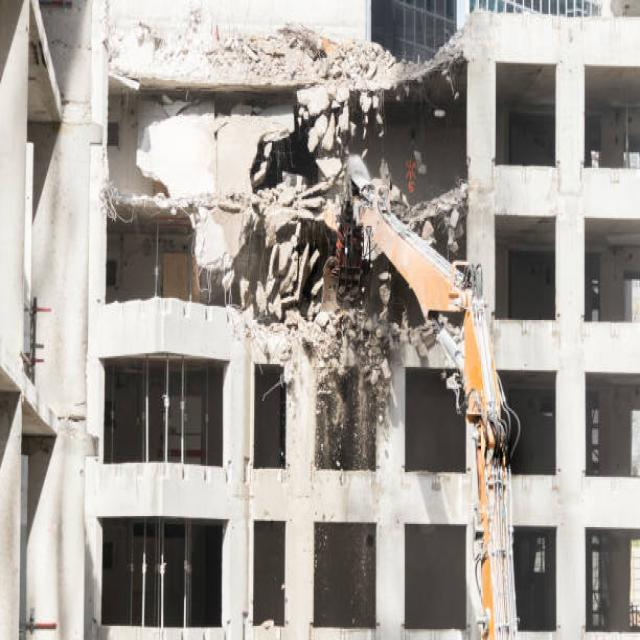Destroyed_building: (96, 0, 404, 640)
